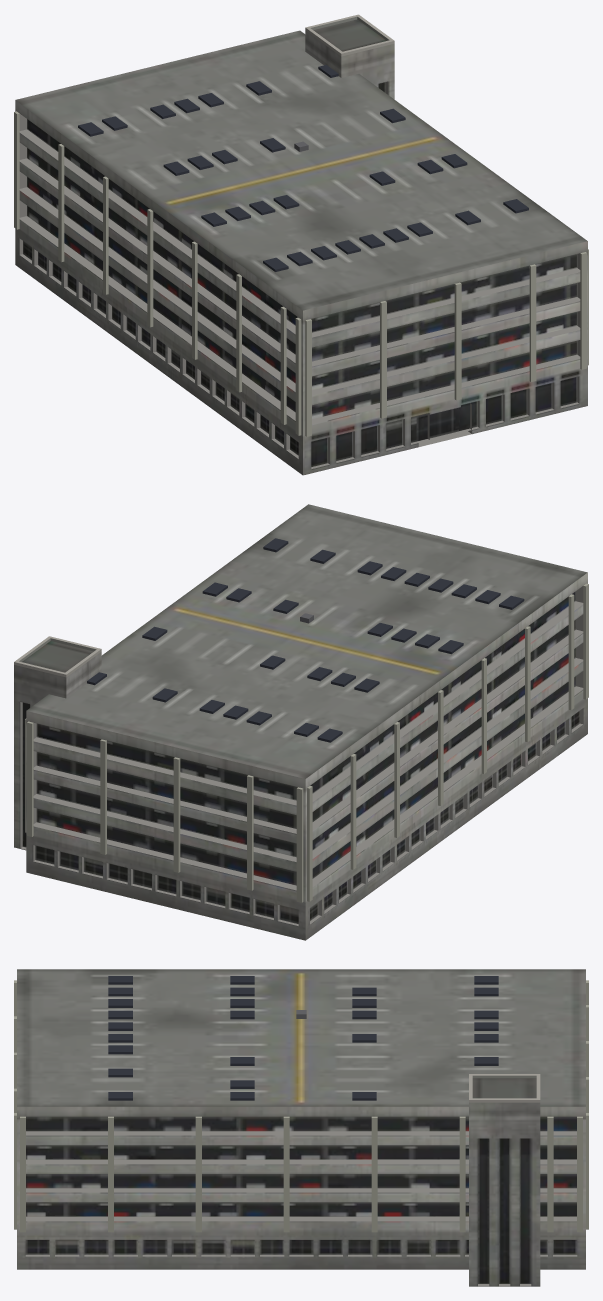
The model's file is seattle_garage_a.glb.
The picture shows the model from 3 angles, top to bottom: view 1: azimuth 30°, elevation 25°; view 2: azimuth 150°, elevation 25°; view 3: azimuth 270°, elevation 25°; orthographic projection.
Visible parts, largest first — view 1: seattle_garage_a; view 2: seattle_garage_a; view 3: seattle_garage_a.
Boxes of the visible parts, x1,y1,x2,y2 form: seattle_garage_a: (14, 14, 588, 475); seattle_garage_a: (14, 504, 588, 940); seattle_garage_a: (14, 969, 588, 1286).
Size of the model in its own units: 36.3 by 20.5 by 56.6.
1 material, 1 textured.
